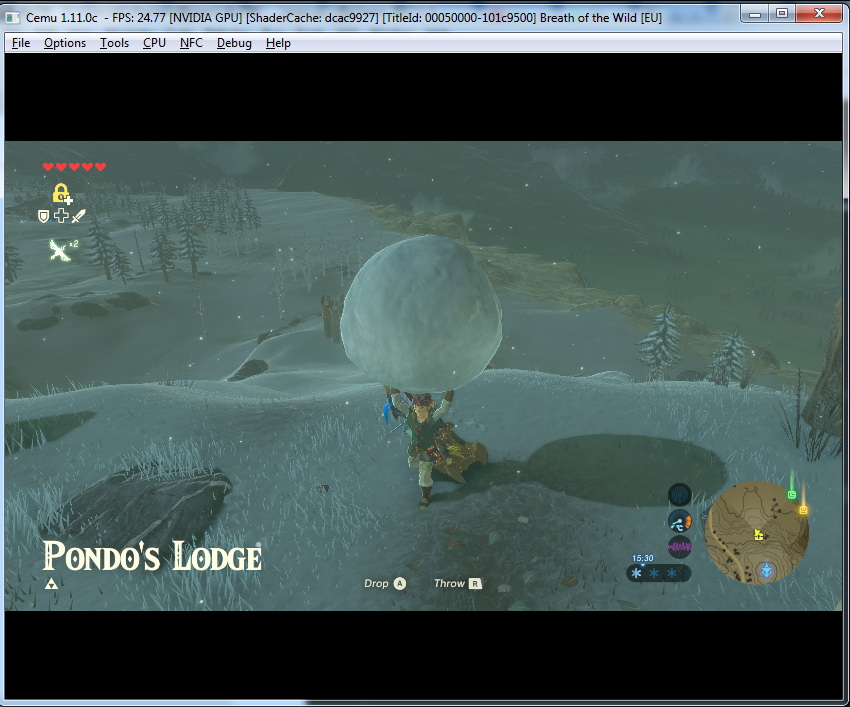link: (382, 374, 497, 512)
snowball: (339, 233, 506, 398)
